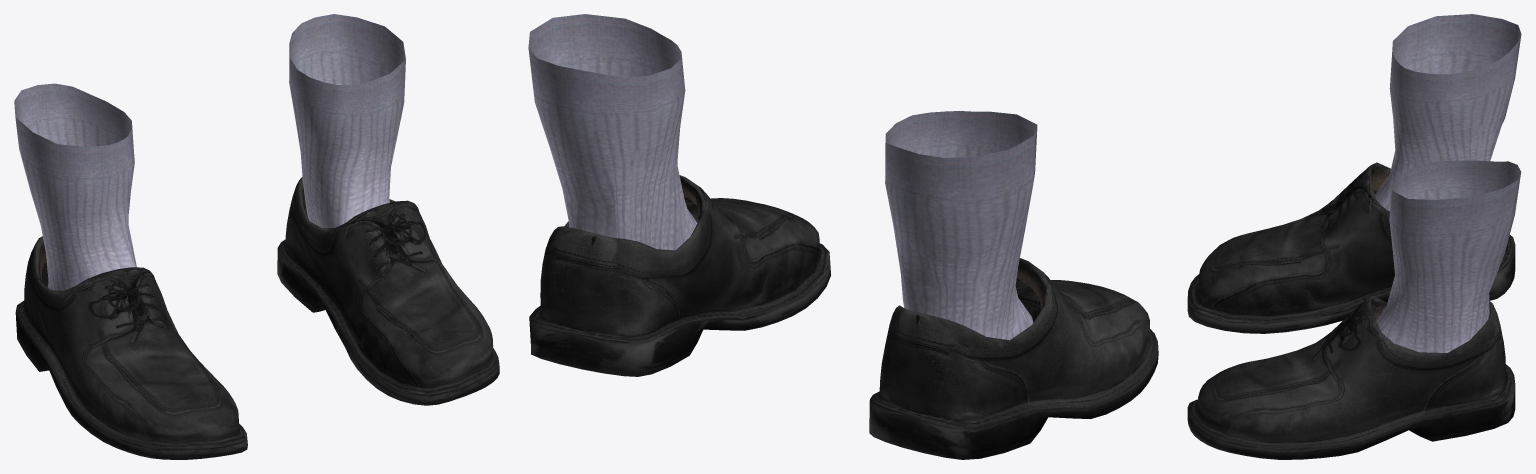
Rendered from shoes_black_formal.gltf.
The picture shows the model from 3 angles, left to right: view 1: azimuth 30°, elevation 25°; view 2: azimuth 150°, elevation 25°; view 3: azimuth 270°, elevation 25°; orthographic projection. The views are drawn at different scales.
Parts seen in each view (by area): view 1: shoes_black_formal; view 2: shoes_black_formal; view 3: shoes_black_formal.
Part boxes in pixels (bbox=[...]): shoes_black_formal: bbox=[14, 14, 499, 459]; shoes_black_formal: bbox=[528, 14, 1158, 459]; shoes_black_formal: bbox=[1187, 14, 1521, 459].
Size of the model in its own units: 0.326 by 0.2109 by 0.238.
Materials: 1 (1 with a texture image).
